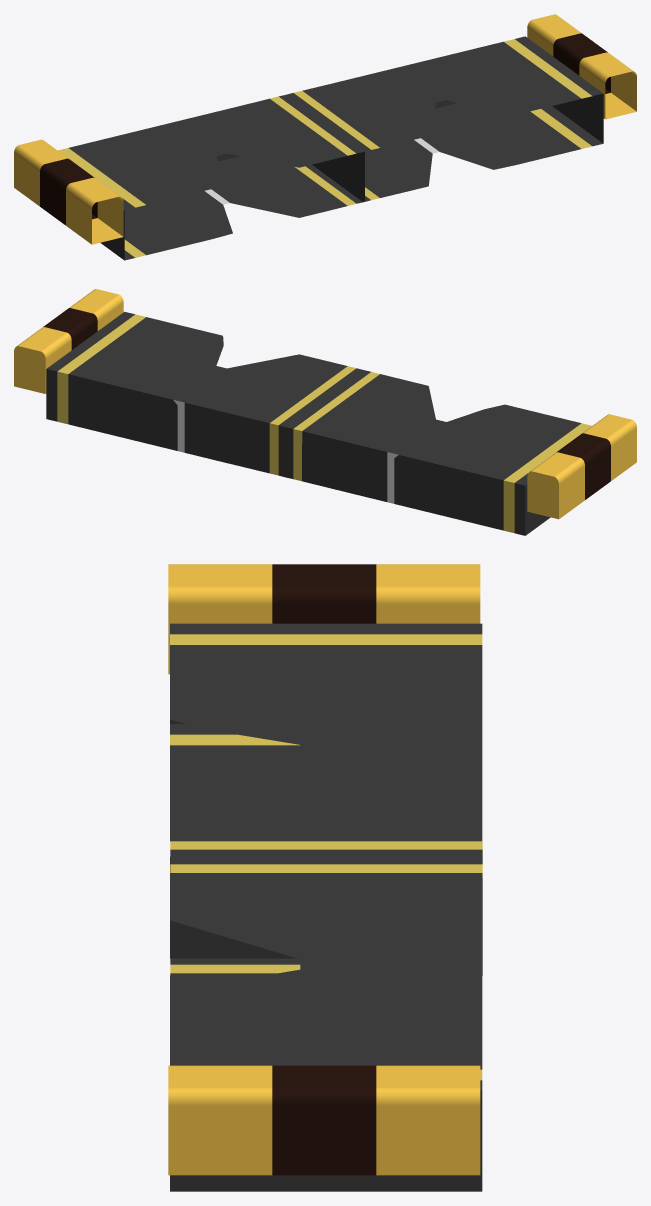
File: RoadEdge.fbx
3 views of the same model, one above another, from view 1: azimuth 30°, elevation 25°; view 2: azimuth 150°, elevation 25°; view 3: azimuth 270°, elevation 25° (orthographic). The views are drawn at different scales.
Visible parts, largest first — view 1: Road.004; view 2: Road.004; view 3: Road.004.
Part boxes in pixels (left/top/right/bottom): Road.004: left=14, top=14, right=636, bottom=260; Road.004: left=14, top=289, right=636, bottom=535; Road.004: left=168, top=564, right=482, bottom=1191.
Bounding box in the file's own units: 2271 × 261 × 567.
